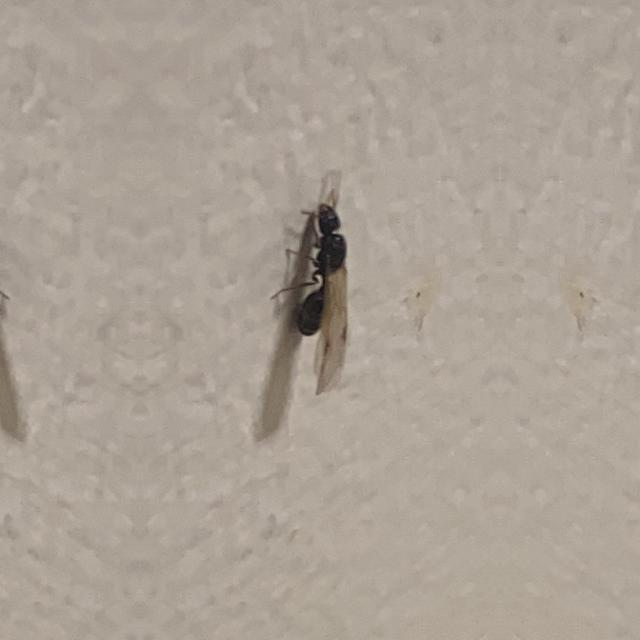Tetramorium: (275, 175, 365, 392)
